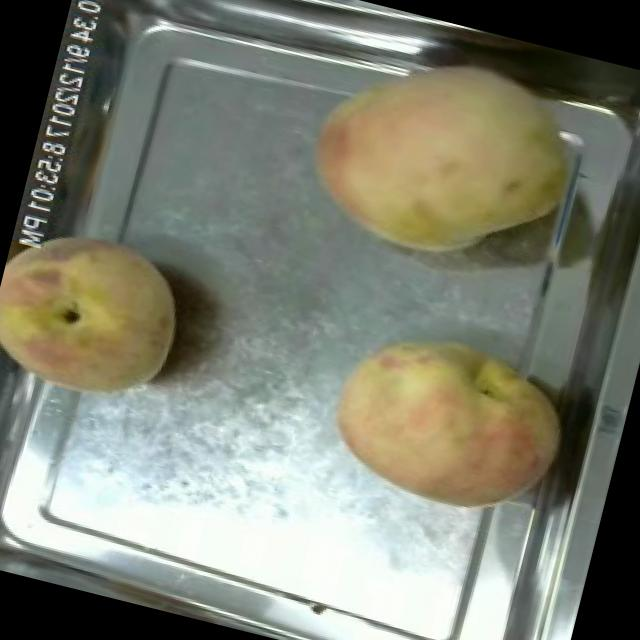Fruit: (282, 22, 593, 291), (305, 304, 588, 540), (0, 206, 206, 423)
